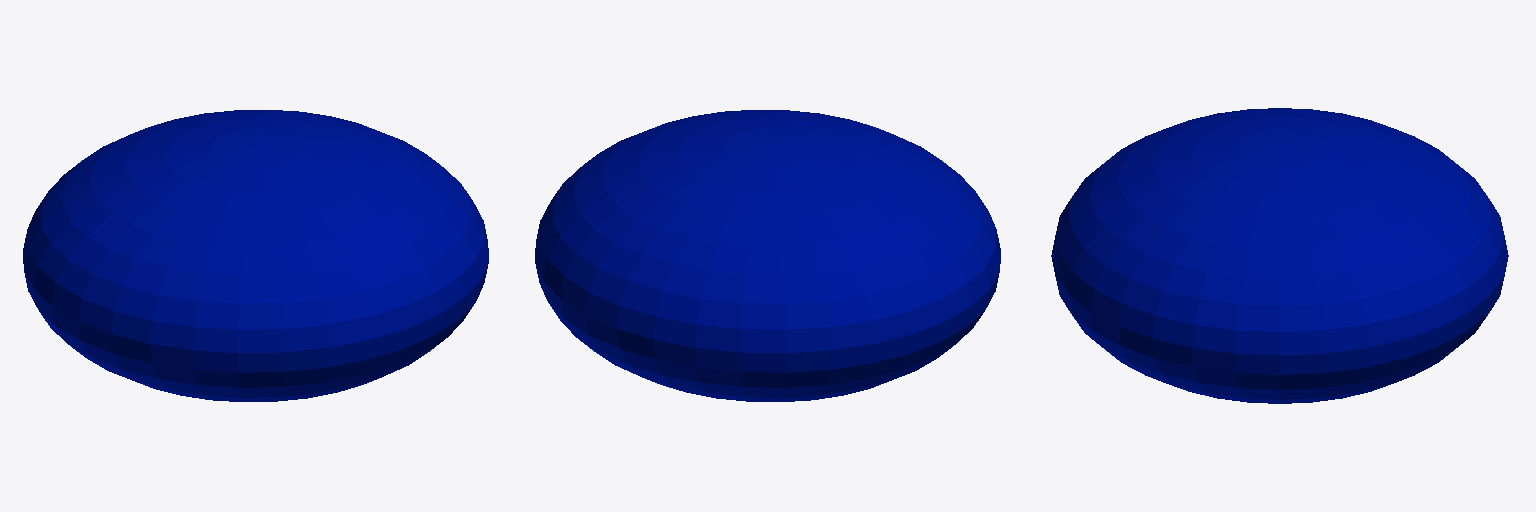
File: moya_microwave_b.obj
The picture shows the model from 3 angles: view 1: azimuth 30°, elevation 25°; view 2: azimuth 150°, elevation 25°; view 3: azimuth 270°, elevation 25°; orthographic projection.
Parts seen in each view (by area): view 1: Sphere_Sphere.005_Sphere_Sphere.009; view 2: Sphere_Sphere.005_Sphere_Sphere.009; view 3: Sphere_Sphere.005_Sphere_Sphere.009.
Part boxes in pixels (x1,y1,x2,y2): Sphere_Sphere.005_Sphere_Sphere.009: (23, 110, 488, 401); Sphere_Sphere.005_Sphere_Sphere.009: (535, 110, 1000, 401); Sphere_Sphere.005_Sphere_Sphere.009: (1051, 108, 1508, 403).
Bounding box in the file's own units: 0.4594 × 0.2363 × 0.4463.